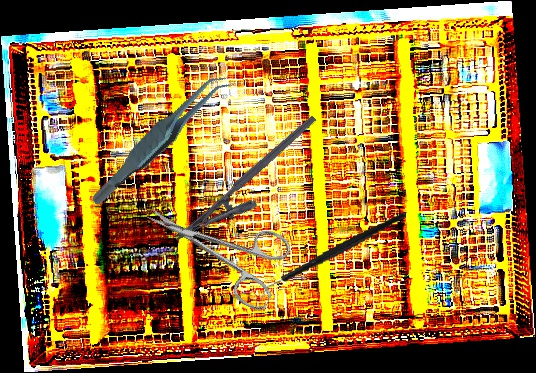Chopper: (251, 211, 416, 302)
Iris Scissors: (132, 176, 299, 314)
Needle Holder: (172, 113, 334, 262)
Tissue Forceps: (69, 69, 252, 208)
